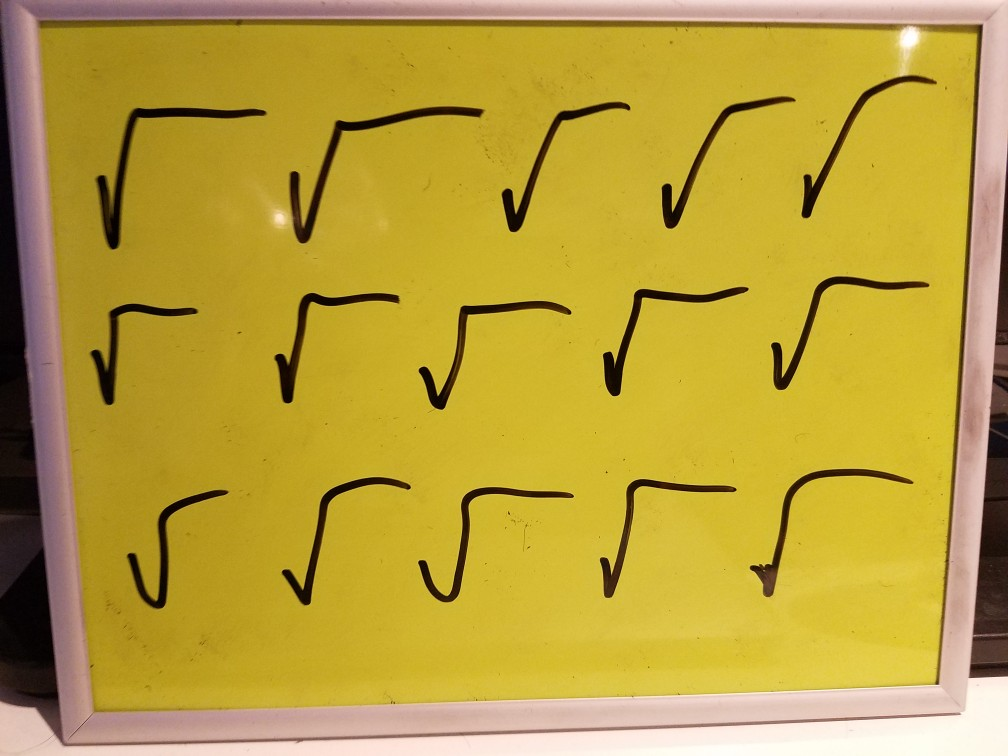sqrt: (75, 79, 273, 265), (282, 91, 482, 256), (747, 456, 924, 620), (753, 262, 939, 417), (412, 451, 574, 618), (579, 269, 751, 416), (262, 462, 415, 627), (411, 280, 576, 429), (581, 454, 736, 612), (798, 64, 933, 239), (645, 87, 797, 236), (106, 471, 246, 627), (491, 95, 636, 244), (252, 282, 407, 412), (70, 287, 213, 411)
